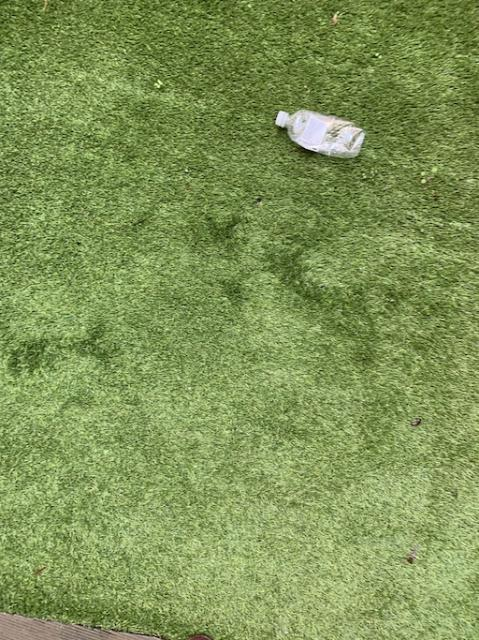plastic: (275, 109, 364, 156)
